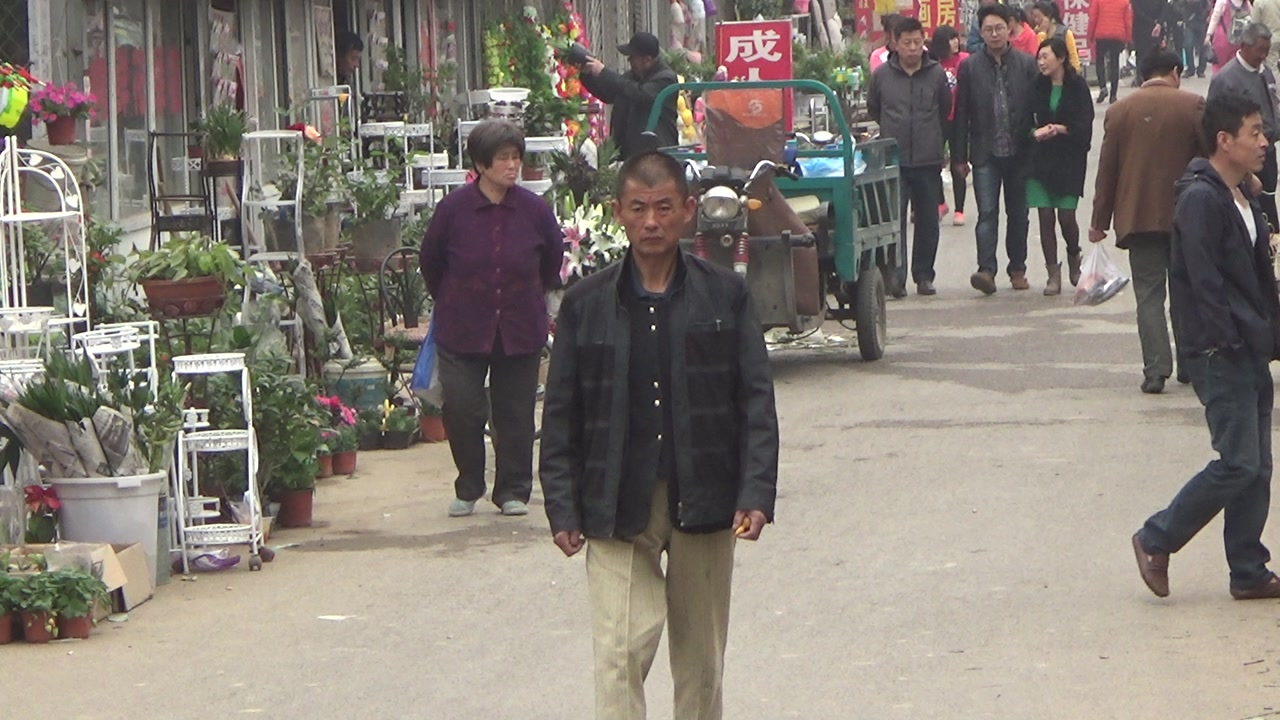person_normal: (539, 151, 780, 719), (1130, 91, 1280, 598), (418, 120, 563, 516), (1088, 46, 1210, 393), (949, 4, 1035, 293), (865, 18, 951, 297), (1025, 38, 1095, 296)
visperson_normal: (1206, 22, 1279, 231), (571, 32, 678, 163), (929, 25, 971, 226), (1085, 1, 1135, 103), (1205, 1, 1256, 75), (870, 10, 926, 75), (1032, 1, 1081, 70), (1131, 1, 1168, 83), (334, 30, 364, 117), (1180, 1, 1212, 77), (1248, 1, 1278, 70), (1006, 5, 1039, 54), (967, 1, 997, 52), (1170, 1, 1184, 59)
